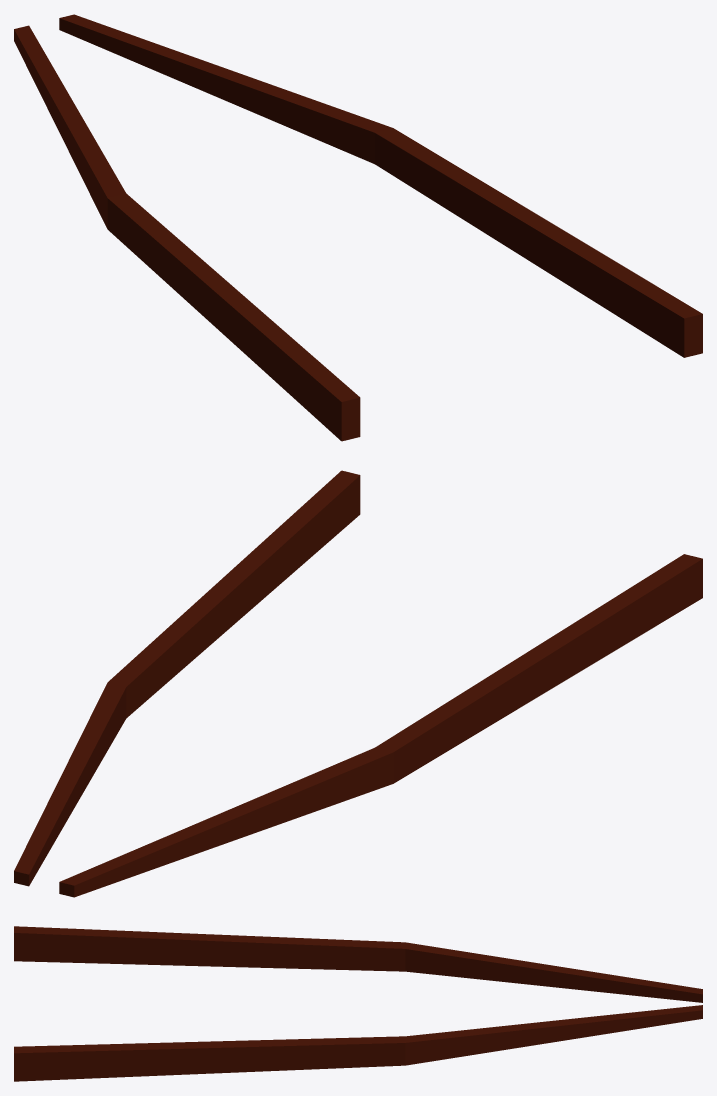
The model's file is burn_blade.glb.
3 renders of one model, top to bottom at view 1: azimuth 30°, elevation 25°; view 2: azimuth 150°, elevation 25°; view 3: azimuth 270°, elevation 25°, orthographic. The views are drawn at different scales.
Parts seen in each view (by area): view 1: burn_edge.001, burn_edge; view 2: burn_edge, burn_edge.001; view 3: burn_edge, burn_edge.001.
Part boxes in pixels (left/top/right/bottom): burn_edge.001: left=59, top=14, right=702, bottom=357; burn_edge: left=14, top=25, right=360, bottom=441; burn_edge: left=59, top=554, right=702, bottom=897; burn_edge.001: left=14, top=470, right=360, bottom=886; burn_edge: left=14, top=926, right=702, bottom=1002; burn_edge.001: left=14, top=1005, right=702, bottom=1081.
Size of the model in its own units: 9.6 by 1 by 22.
1 material, 1 textured.
